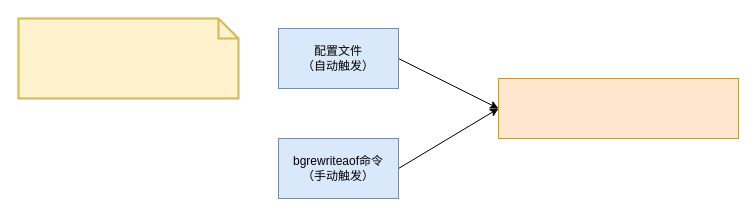
Some shapes in this 756 by 216 pixel diagram are drawn without their labels. Here are the shapes that lost their labels. From the top down, the centre of each, then its label:
the point at 128,58: aof文件的大小超过阈值，并且aof文件大小的增长超过阈值
the point at 618,108: rewriteAppendOnlyFileBackground fork子进程重写
